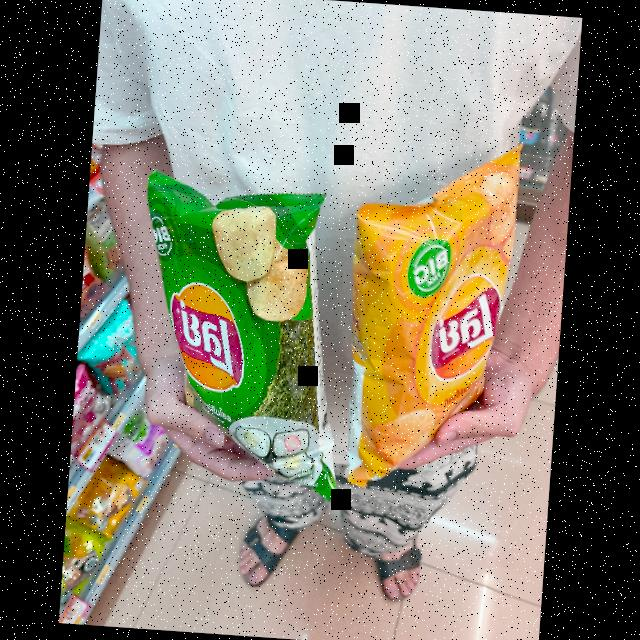snack_bag: (114, 165, 358, 503), (335, 128, 537, 498)
